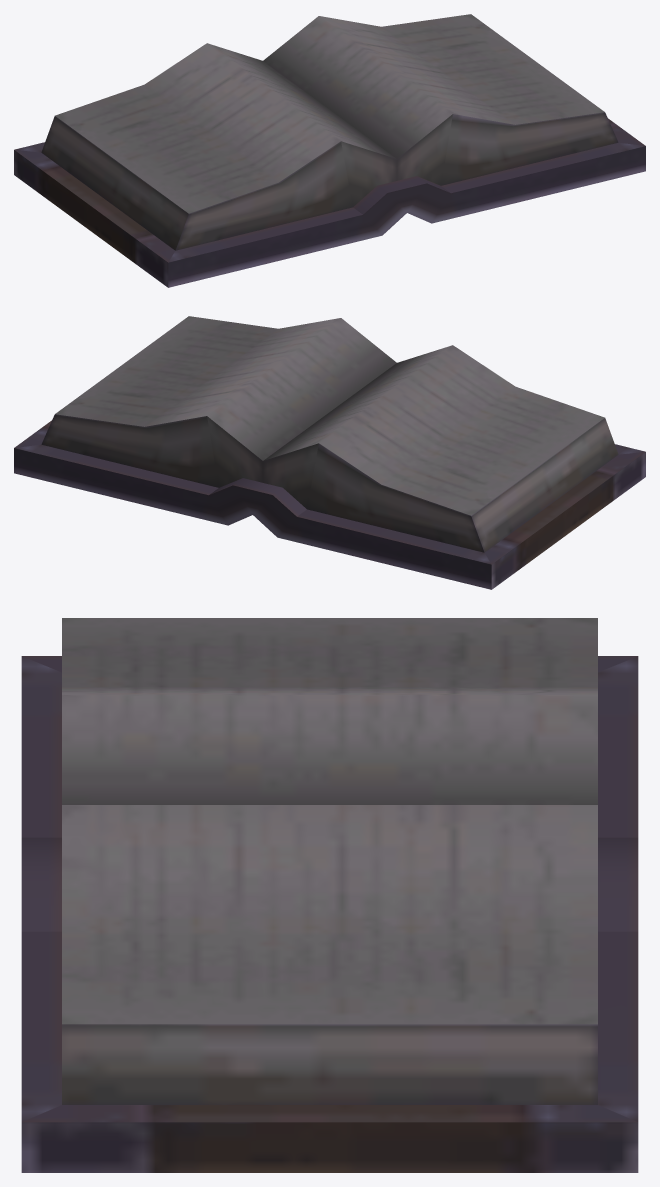
The model's file is crypt_open_book.fbx.
3 renders of one model, top to bottom at view 1: azimuth 30°, elevation 25°; view 2: azimuth 150°, elevation 25°; view 3: azimuth 270°, elevation 25°, orthographic. The views are drawn at different scales.
Visible parts, largest first — view 1: open_book_mat; view 2: open_book_mat; view 3: open_book_mat.
Part boxes in pixels (x1,y1,x2,y2): open_book_mat: [14, 14, 645, 287]; open_book_mat: [14, 316, 645, 589]; open_book_mat: [21, 618, 638, 1172].
Bounding box in the file's own units: 1.06 × 0.1998 × 0.5905.
